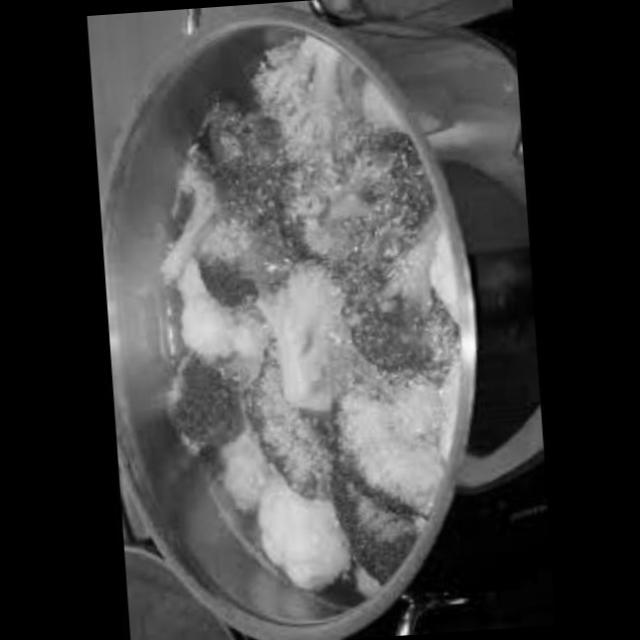broccoli: (138, 114, 444, 548), (241, 23, 358, 183)
cauliflower: (242, 474, 346, 604), (165, 258, 262, 376), (212, 428, 270, 536)
